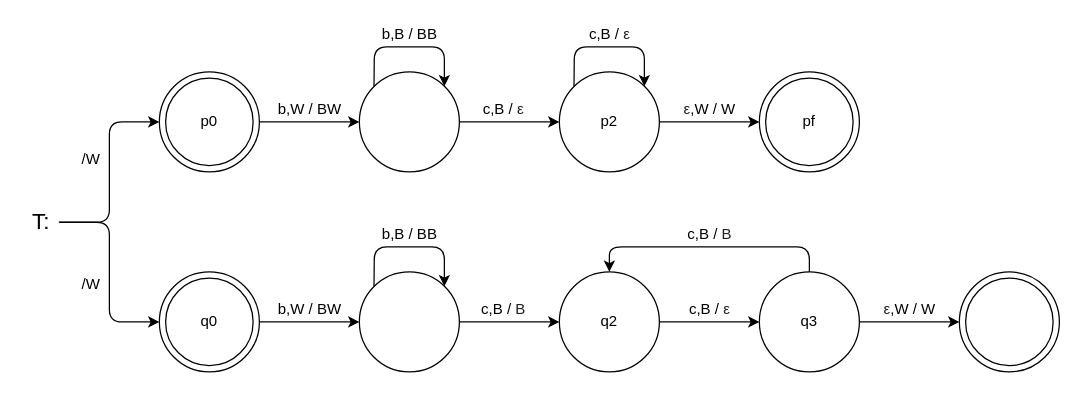
Some shapes in this 1081 by 394 pixel diagram are drawn without their labels. The centre of each missing label's shape, as x and y in pixels:
p1: the point at 408,121
q1: the point at 408,321
qf: the point at 1008,321
